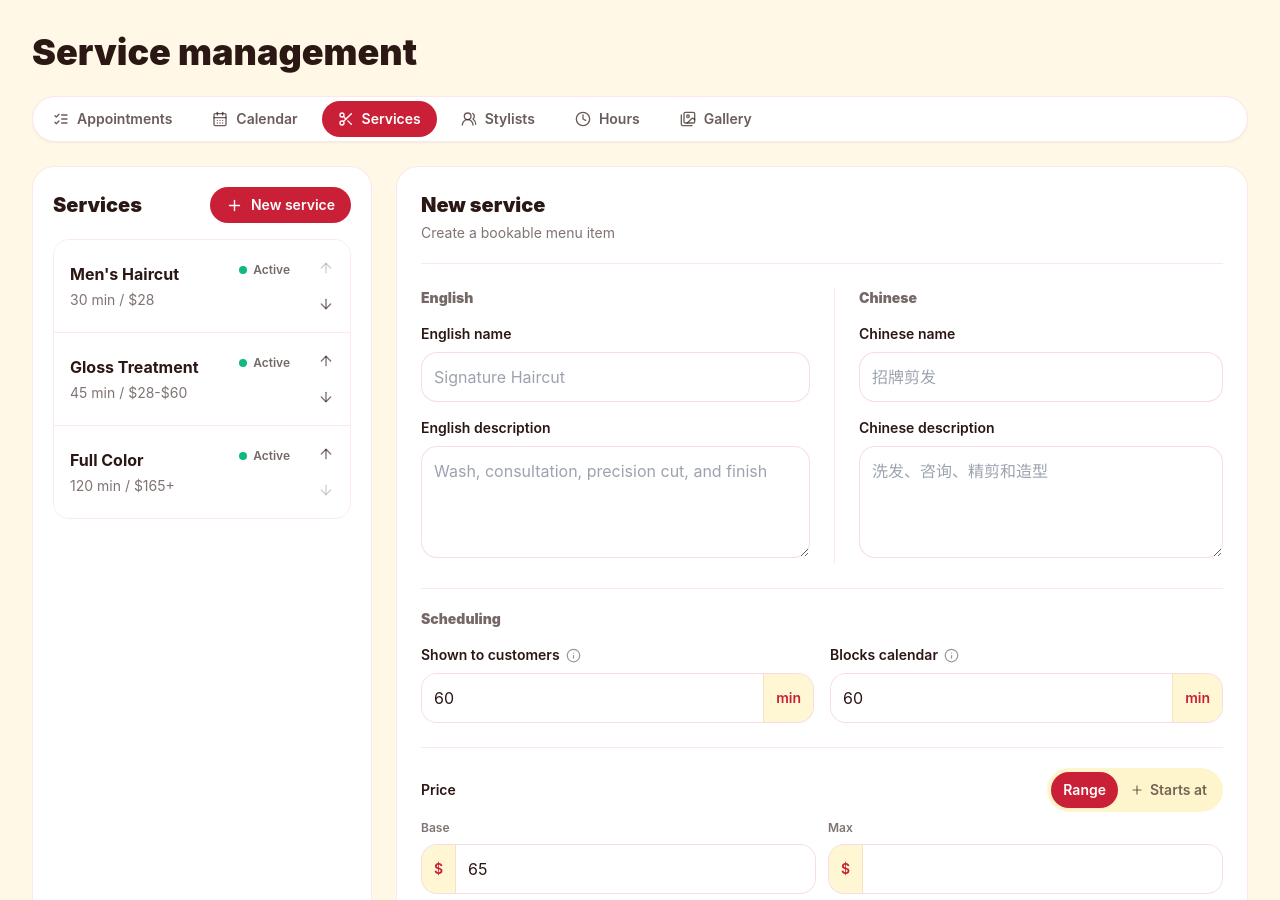
Scenario: AdminServicesPage › shows save failures instead of silently leaving old service prices
Click the button "Men's Haircut 30 min / $28 Active". click: click(178, 286)
box: [54, 240, 302, 332]
(page scrolled)
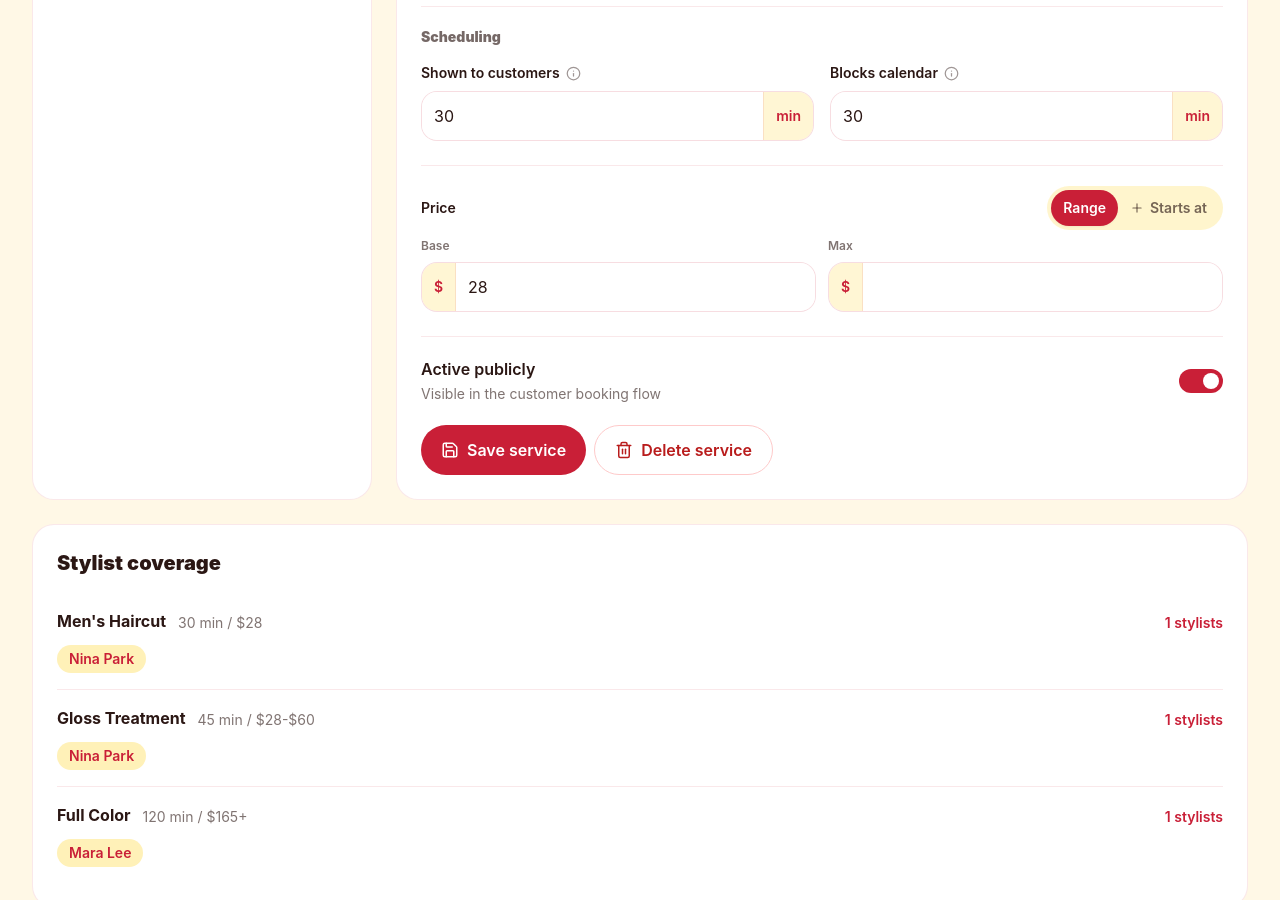
Click the button "Save service". click: click(504, 450)
box: [421, 425, 586, 475]
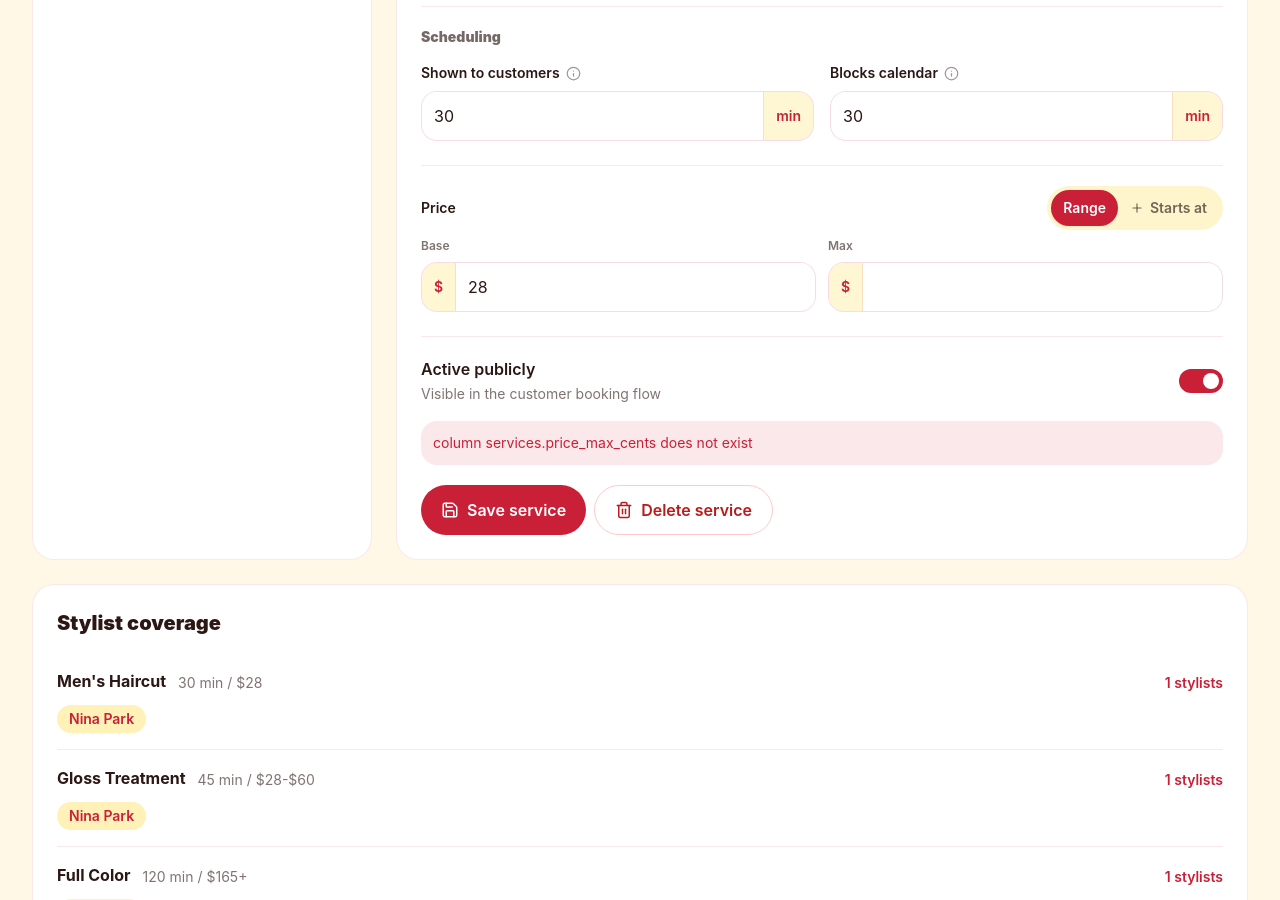
Expected: the text "column services.price_max_cents does not exist" is shown, [421, 421, 1223, 465]
